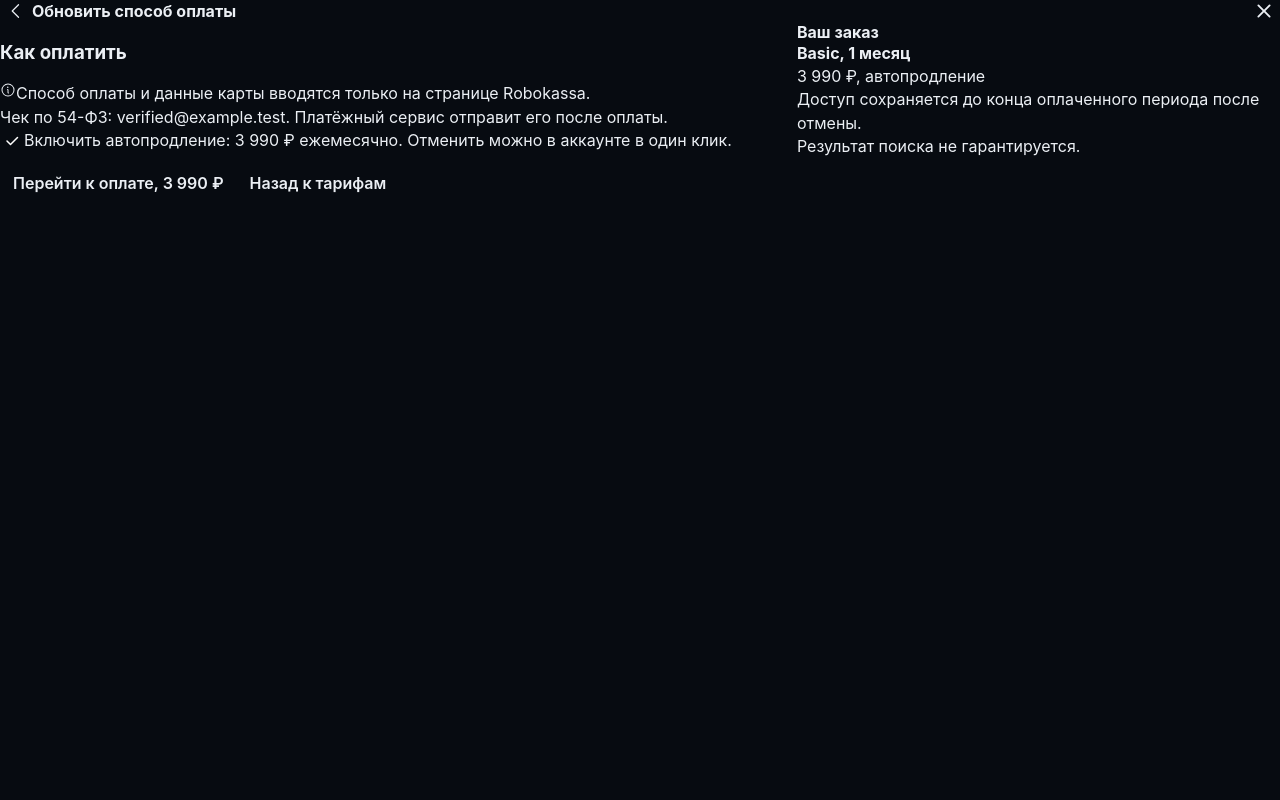
Test: TariffUpgradeFlow › opens payment-method recovery at checkout and preserves recurring consent
Check: the checkbox named "auto-renew" is checked, box [0,129,24,153]
Click the button "Перейти к оплате, 3 990 ₽" at (118, 183), box [0,173,236,193]
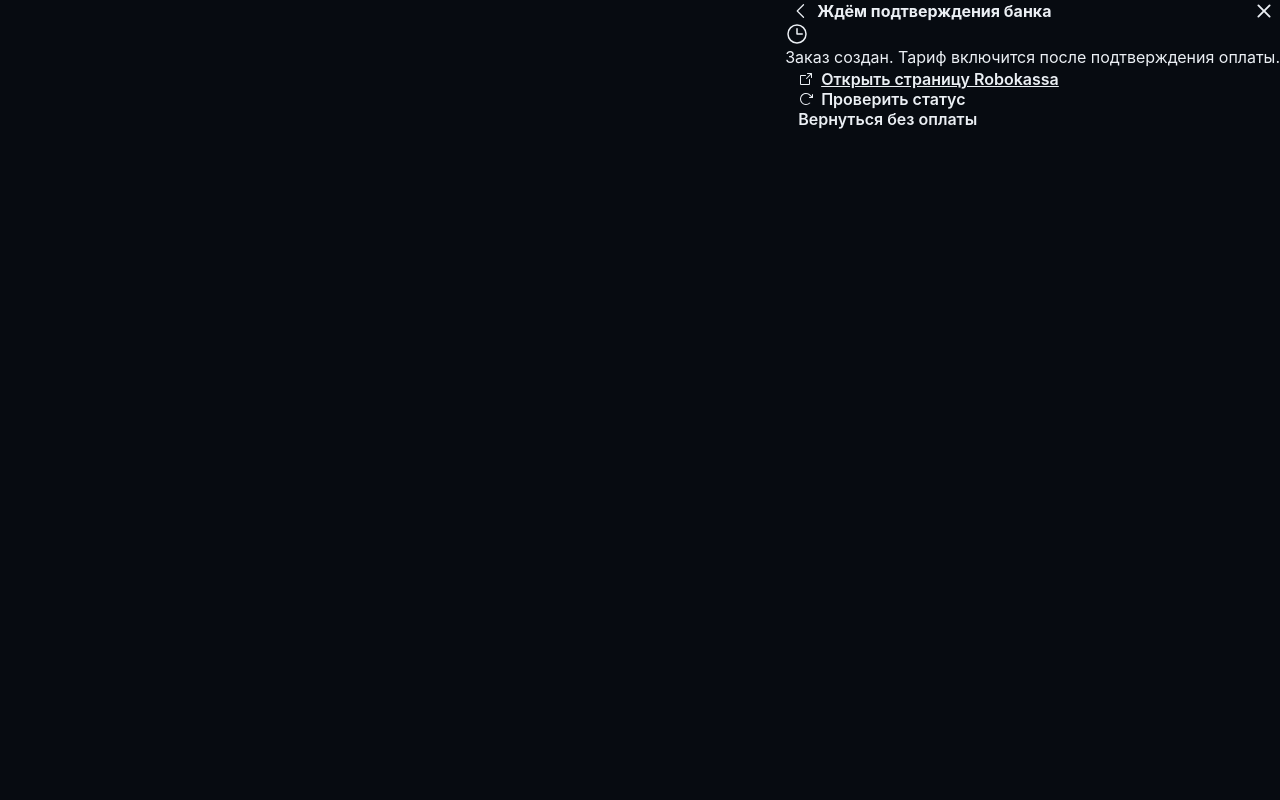
Check: the link "Открыть страницу Robokassa" is shown, box [785,69,1072,89]
